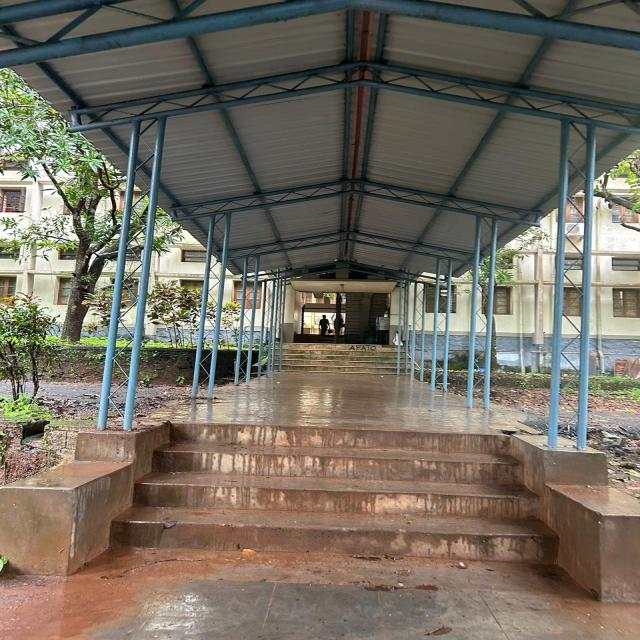pillar ahead at: (94, 122, 178, 438), (536, 110, 606, 452)
stairs ahead at: (116, 421, 551, 557)
